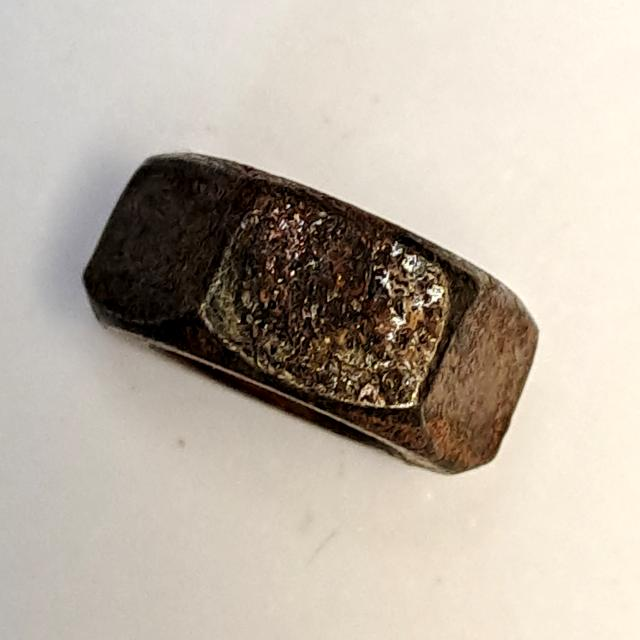Side_Rust: (62, 139, 557, 488)
